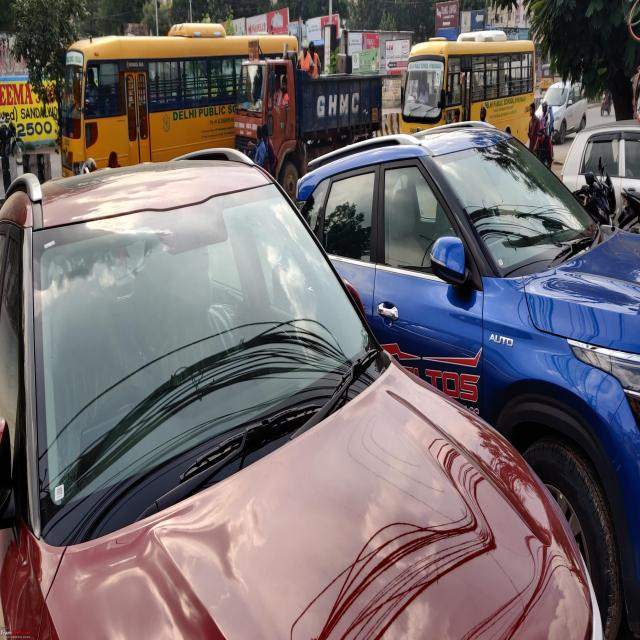bus: (61, 25, 248, 175), (401, 33, 535, 143)
car: (0, 154, 600, 639), (296, 121, 640, 636), (544, 82, 588, 143)
truck: (234, 55, 382, 200)
